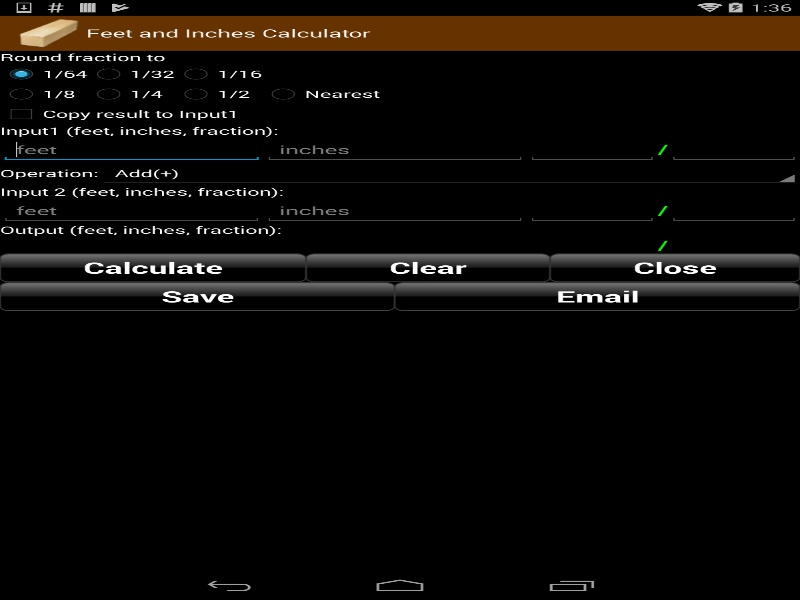Button: (394, 282, 800, 310), (0, 282, 394, 310), (0, 253, 306, 282), (550, 253, 800, 282), (306, 253, 550, 282)
Input: (0, 137, 263, 162), (263, 137, 526, 162), (0, 198, 263, 223), (263, 198, 526, 223), (0, 237, 263, 253), (263, 237, 526, 253), (526, 137, 658, 162), (668, 137, 800, 162), (526, 198, 658, 223), (668, 198, 800, 223), (526, 237, 658, 253), (668, 237, 800, 253)
